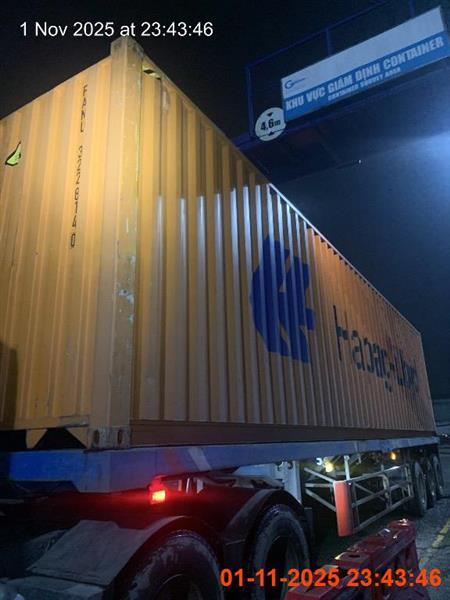crack: (0, 36, 445, 599)
